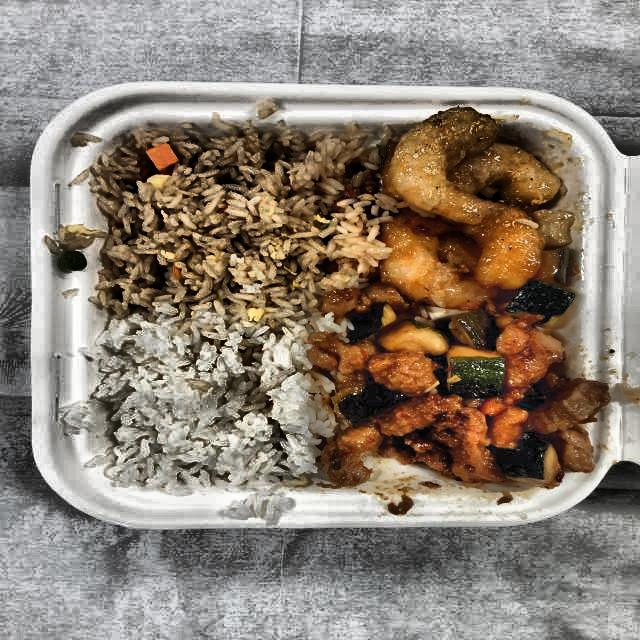Food: (316, 296, 608, 494), (98, 130, 364, 328), (364, 110, 586, 314), (91, 327, 319, 495)
